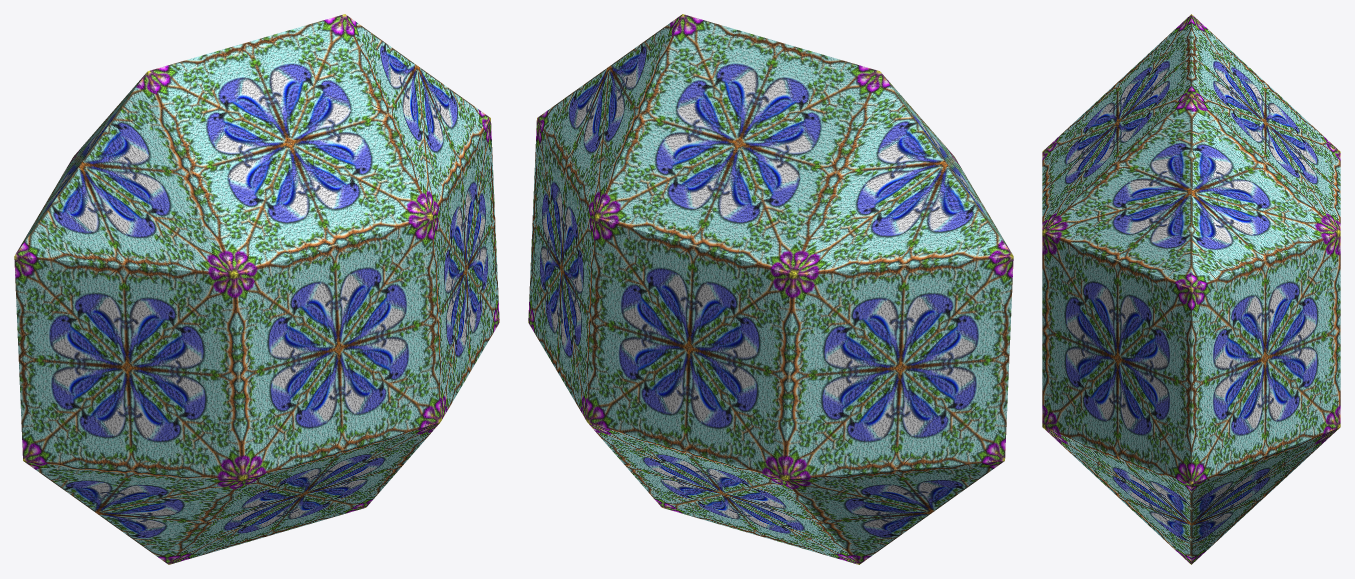
The model's file is SquareOrthobicupola.obj.
The picture shows the model from 3 angles, left to right: view 1: azimuth 30°, elevation 25°; view 2: azimuth 150°, elevation 25°; view 3: azimuth 270°, elevation 25°; orthographic projection. The views are drawn at different scales.
Bounding box in the file's own units: 2.11 × 2.11 × 1.22.
1 material, 1 textured.
